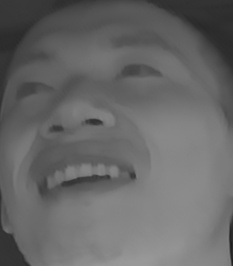eye: (109, 59, 165, 86), (10, 76, 60, 102)
mouth: (30, 149, 140, 207)
